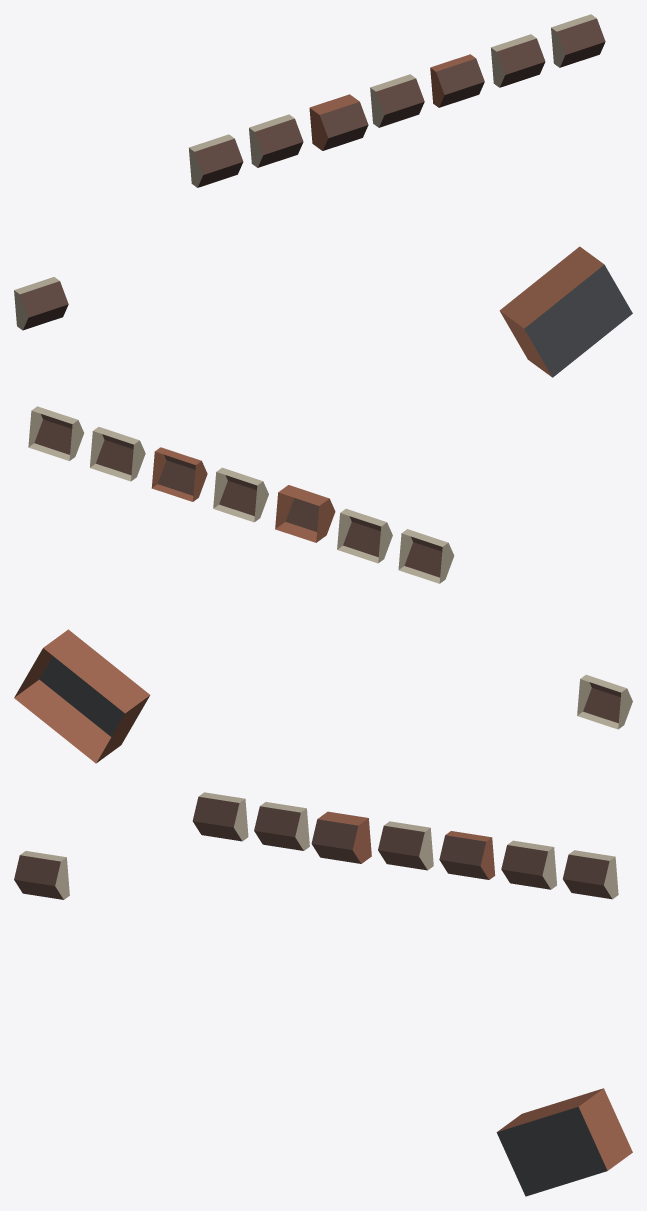
Rendered from island_bldg_04_02.obj.
3 views of the same model, one above another, from view 1: azimuth 30°, elevation 25°; view 2: azimuth 150°, elevation 25°; view 3: azimuth 330°, elevation 25° (orthographic). The views are drawn at different scales.
Visible parts, largest first — view 1: island_bldg_04_02; view 2: island_bldg_04_02; view 3: island_bldg_04_02.
Boxes of the visible parts, box(x1,y1,x2,y2) form: island_bldg_04_02: box(14, 14, 632, 377); island_bldg_04_02: box(14, 406, 632, 763); island_bldg_04_02: box(14, 792, 632, 1196).
Bounding box in the file's own units: 235 × 125 × 17.
